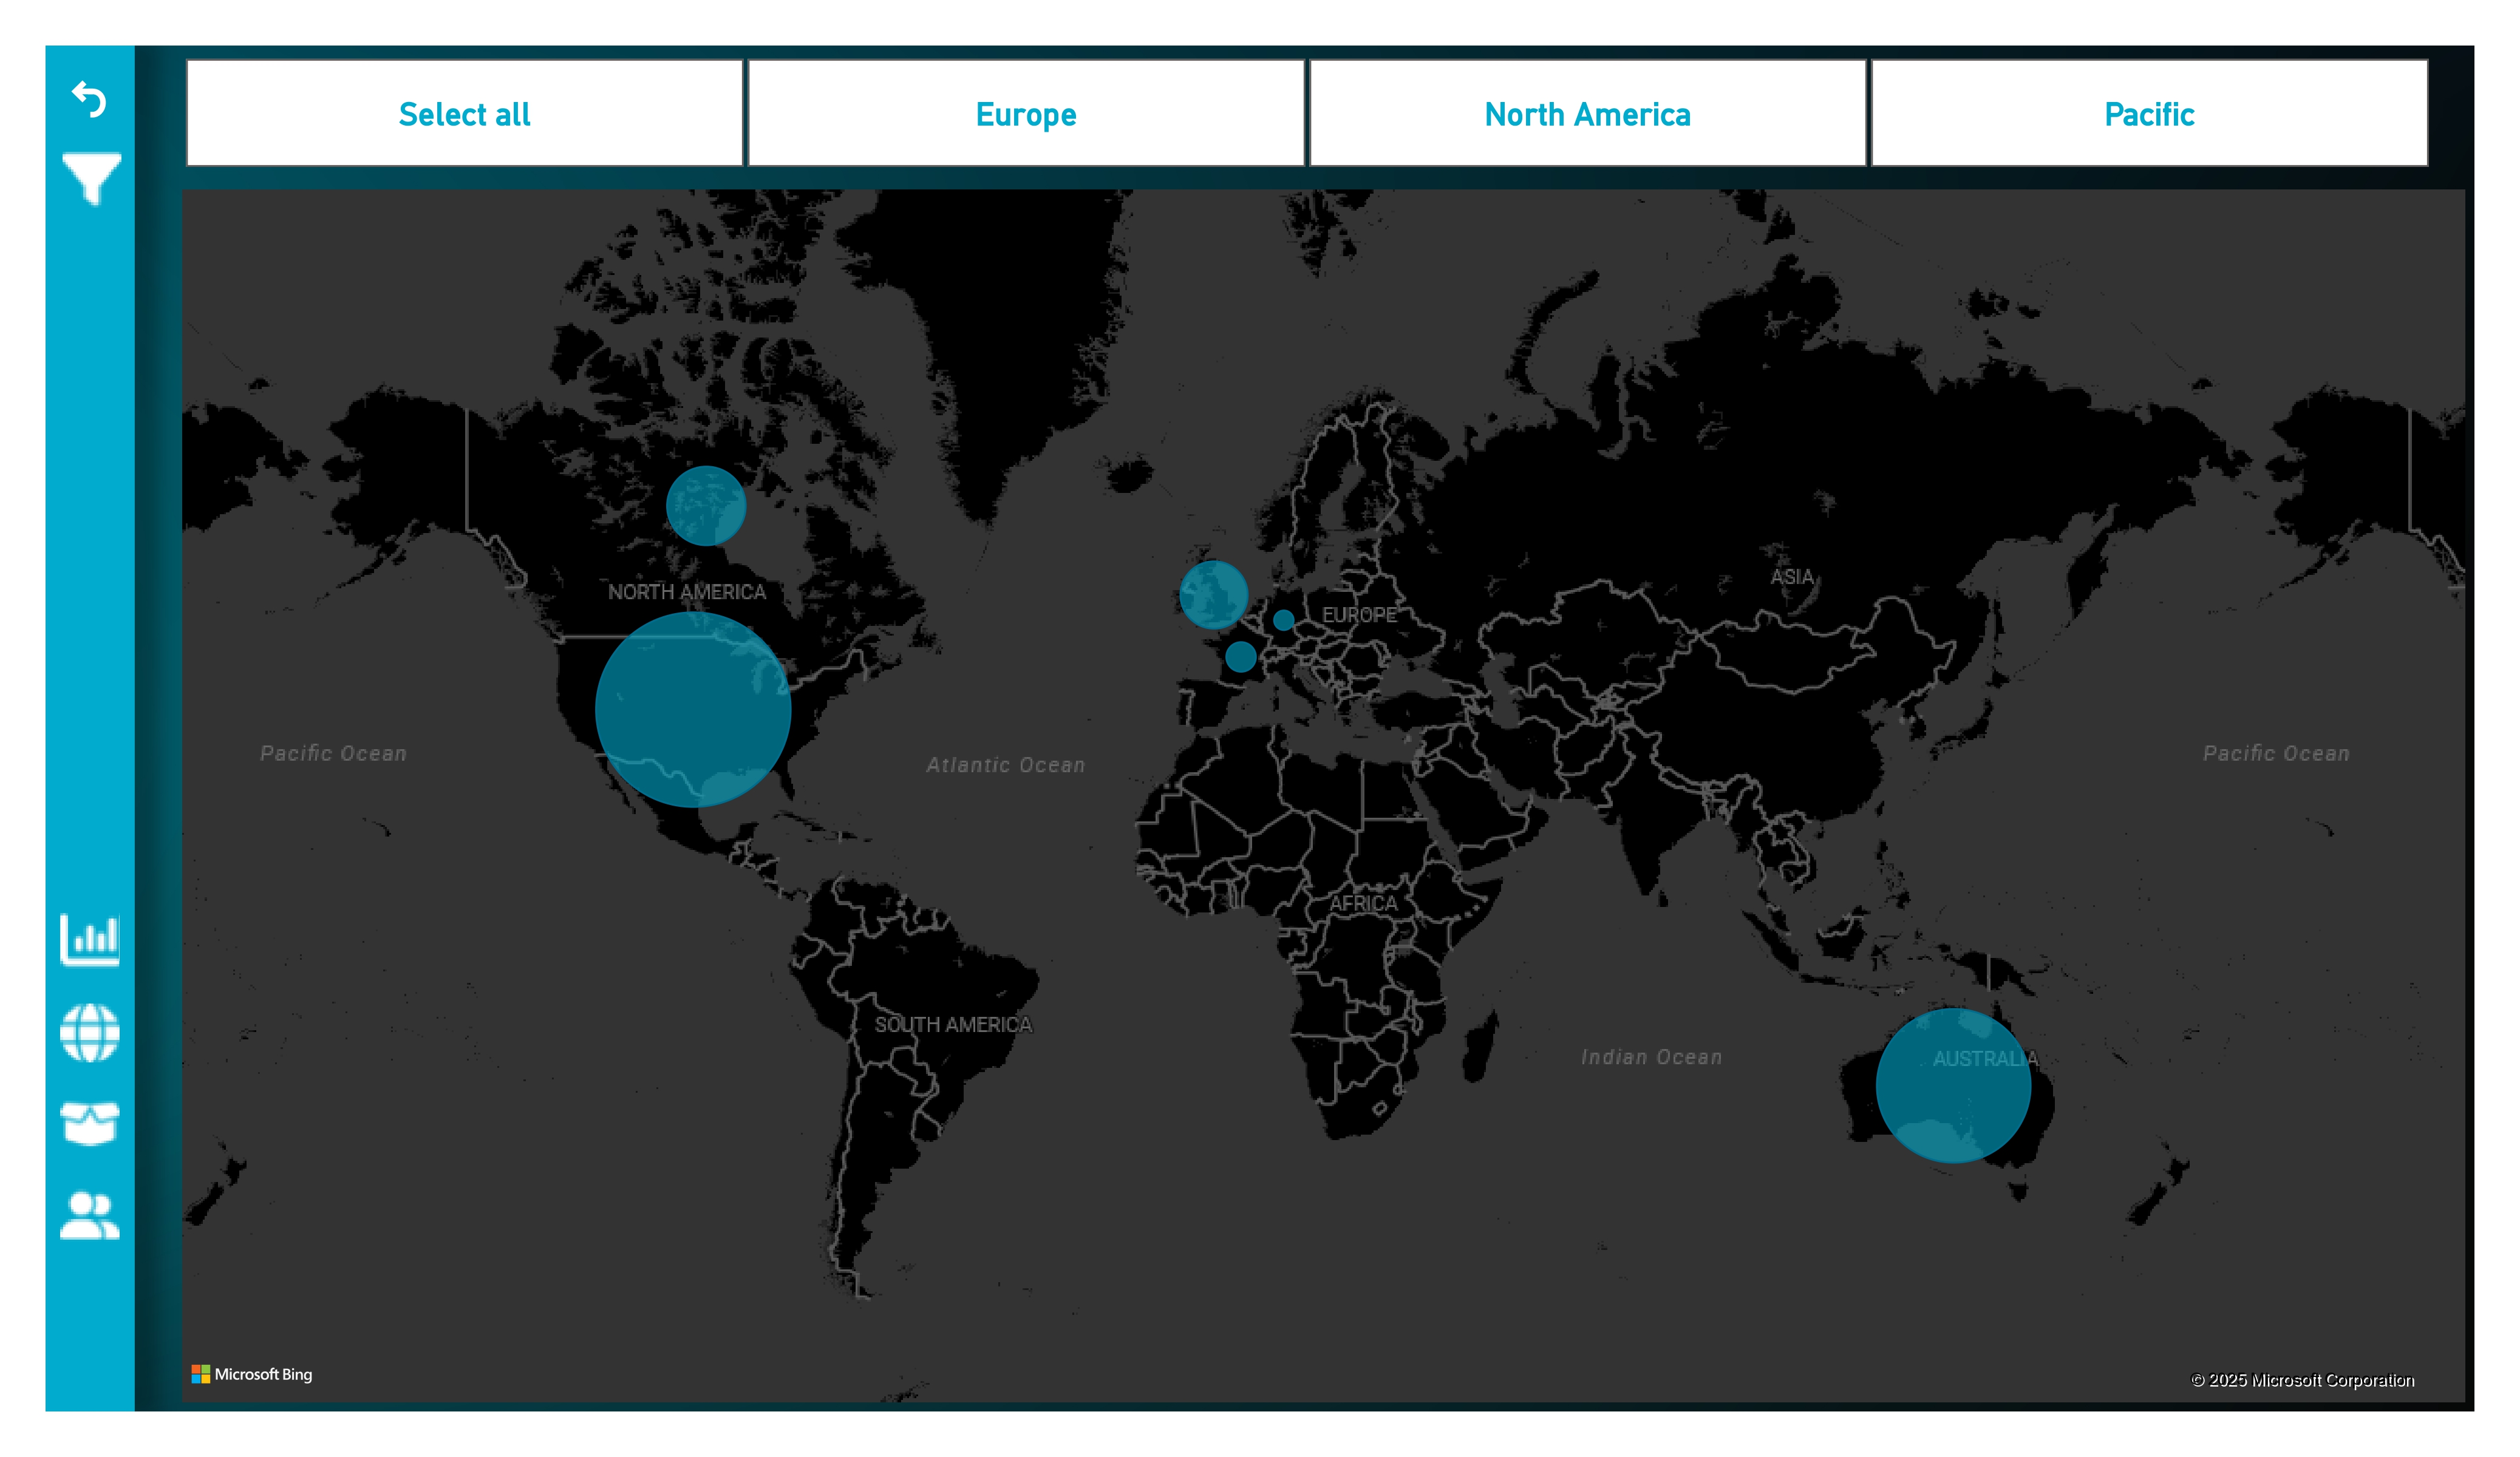

Layout of this report page (visuals, bound fields, positions):
{"tool":"powerbi","page":{"name":"Map","canvas":[1280,720],"ordinal":1},"visuals":[{"type":"map","fields":{"Category":["Territory Lookup.Country"],"Size":["Measure Calculations.Total Orders"]},"box":[67.4,70.8,1212.6,649.5],"z":0},{"type":"slicer","fields":{"Values":["Territory Lookup.Continent Hierarchy.Continent"]},"box":[47.5,0,1232.5,70.8],"z":1000},{"type":"shape","box":[0,0,47.5,719.9],"z":2000},{"type":"actionButton","box":[4.4,451.3,38.9,40.2],"z":3000},{"type":"actionButton","box":[4.4,499.5,38.9,40.2],"z":4000},{"type":"actionButton","box":[4.4,547.8,38.9,40.2],"z":5000},{"type":"actionButton","box":[4.4,596.1,38.9,40.2],"z":6000},{"type":"actionButton","box":[9.2,14.1,28.3,28.3],"z":7000},{"type":"actionButton","box":[4.7,49.6,38.9,40.2],"z":8000}]}

Visuals, with their boxes on the page's 1280x720 design canvas (x1, y1, x2, y2). These are canvas units, not pixel positions in the 2520x1457 screenshot, which may show the page scaled, cropped or inside an application window:
map - Territory Lookup.Country x Measure Calculations.Total Orders: locate(67, 71, 1280, 720)
slicer - Territory Lookup.Continent Hierarchy.Continent: locate(48, 0, 1280, 71)
shape: locate(0, 0, 48, 720)
actionButton: locate(4, 451, 43, 492)
actionButton: locate(4, 500, 43, 540)
actionButton: locate(4, 548, 43, 588)
actionButton: locate(4, 596, 43, 636)
actionButton: locate(9, 14, 38, 42)
actionButton: locate(5, 50, 44, 90)
